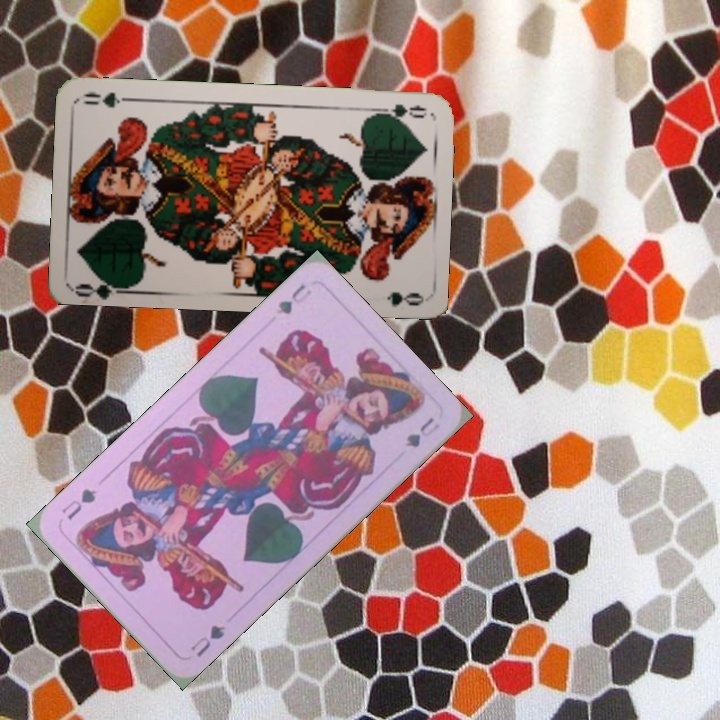GO: (72, 270, 132, 298), (370, 99, 429, 124)
GU: (186, 621, 228, 660), (272, 280, 315, 317)
